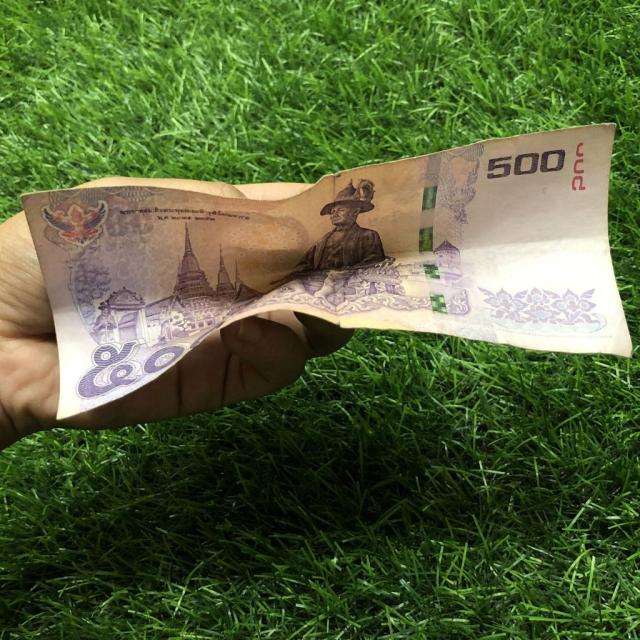THAI500: (23, 124, 631, 420)
